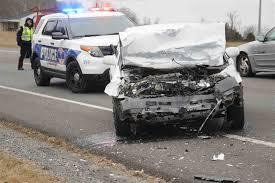bonnet-dent: (119, 23, 222, 68)
front-bumper-dent: (137, 95, 233, 118)
